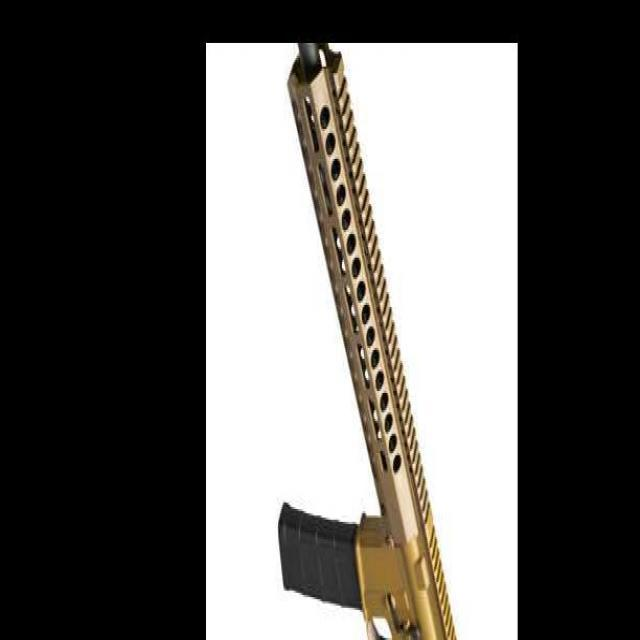weapon: (278, 41, 457, 640)
